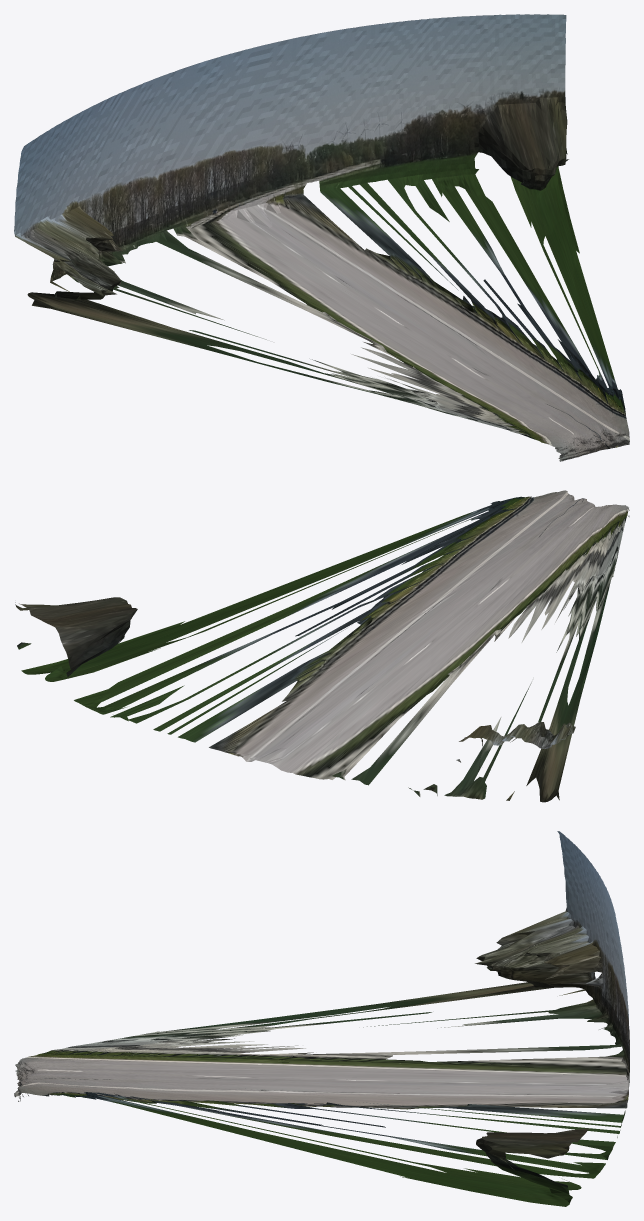
3 views of the same model, one above another, from view 1: azimuth 30°, elevation 25°; view 2: azimuth 150°, elevation 25°; view 3: azimuth 270°, elevation 25° (orthographic). The views are drawn at different scales.
Visible parts, largest first — view 1: defaultobject; view 2: defaultobject; view 3: defaultobject.
Boxes of the visible parts, x1,y1,x2,y2 form: defaultobject: (14,14,629,461); defaultobject: (15,490,629,802); defaultobject: (14,831,629,1206).
Size of the model in its own units: 41.08 by 12.37 by 44.21.
Materials: 1 (1 with a texture image).
